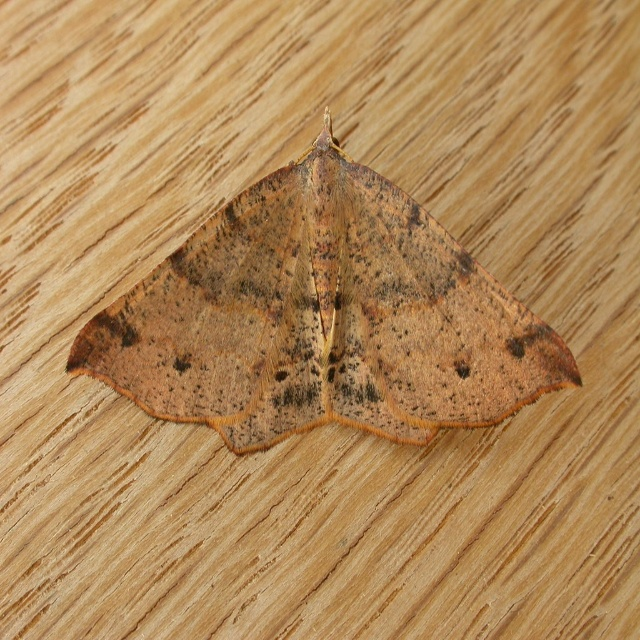Moths and butterflies: (64, 105, 586, 458)
